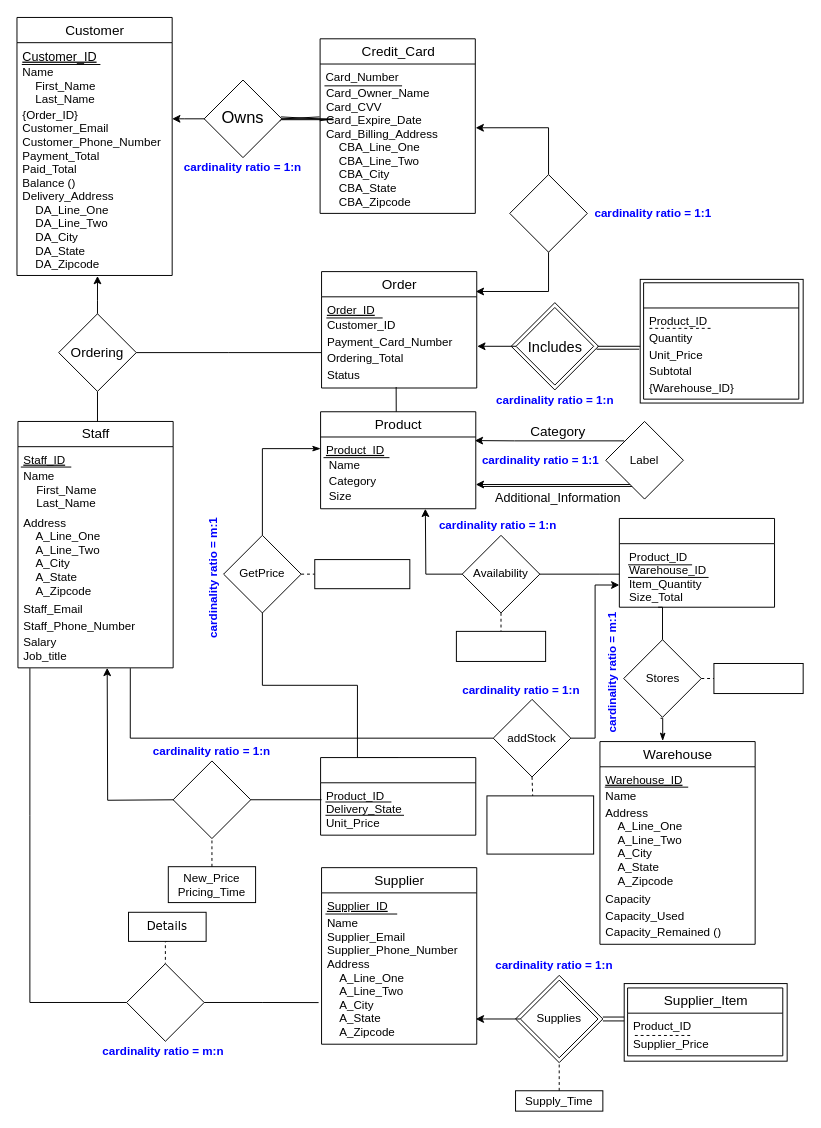
This 821x1128 diagram has some shape labels left out. The box of each missing label's shape, as (x1, y1, x2, y2) in pixels:
Add_Quantity Add_Size Add_Time: (486, 795, 594, 854)
GetPrice_Time: (314, 559, 410, 589)
Order_Item: (643, 282, 799, 399)
PaidWith: (509, 174, 587, 252)
Pricing: (172, 760, 251, 839)
Product_Pricing: (320, 757, 476, 835)
Request: (126, 963, 204, 1041)
Select_Time: (455, 630, 546, 661)
Stock: (618, 517, 775, 607)
Stores_Time: (713, 663, 803, 694)
